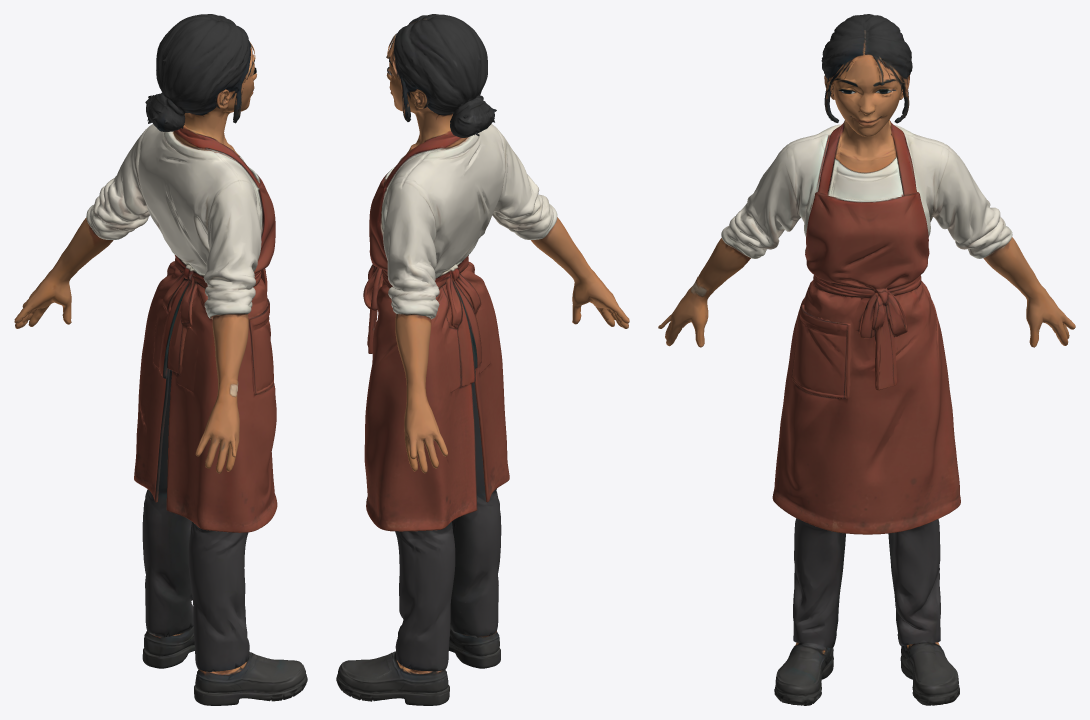
Rendered from ngunpar_tripo.glb.
3 views of the same model, side by side, from view 1: azimuth 30°, elevation 25°; view 2: azimuth 150°, elevation 25°; view 3: azimuth 270°, elevation 25° (orthographic).
Visible parts, largest first — view 1: tripo_node_a715af68-4368-4c6c-9dd9-f324c744f4a7; view 2: tripo_node_a715af68-4368-4c6c-9dd9-f324c744f4a7; view 3: tripo_node_a715af68-4368-4c6c-9dd9-f324c744f4a7.
Part boxes in pixels (<box>): tripo_node_a715af68-4368-4c6c-9dd9-f324c744f4a7: <box>14,14,307,705</box>; tripo_node_a715af68-4368-4c6c-9dd9-f324c744f4a7: <box>336,14,629,705</box>; tripo_node_a715af68-4368-4c6c-9dd9-f324c744f4a7: <box>658,14,1075,705</box>.
Bounding box in the file's own units: 0.2582 × 0.9785 × 0.5602.
Materials: 1 (1 with a texture image).
